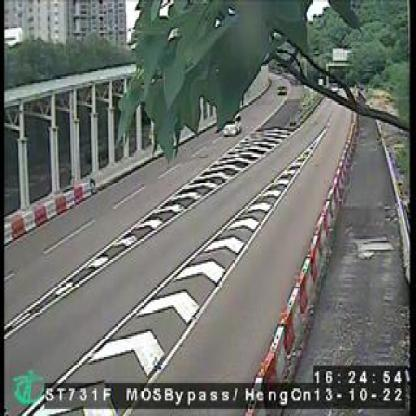Car: (222, 118, 242, 136)
